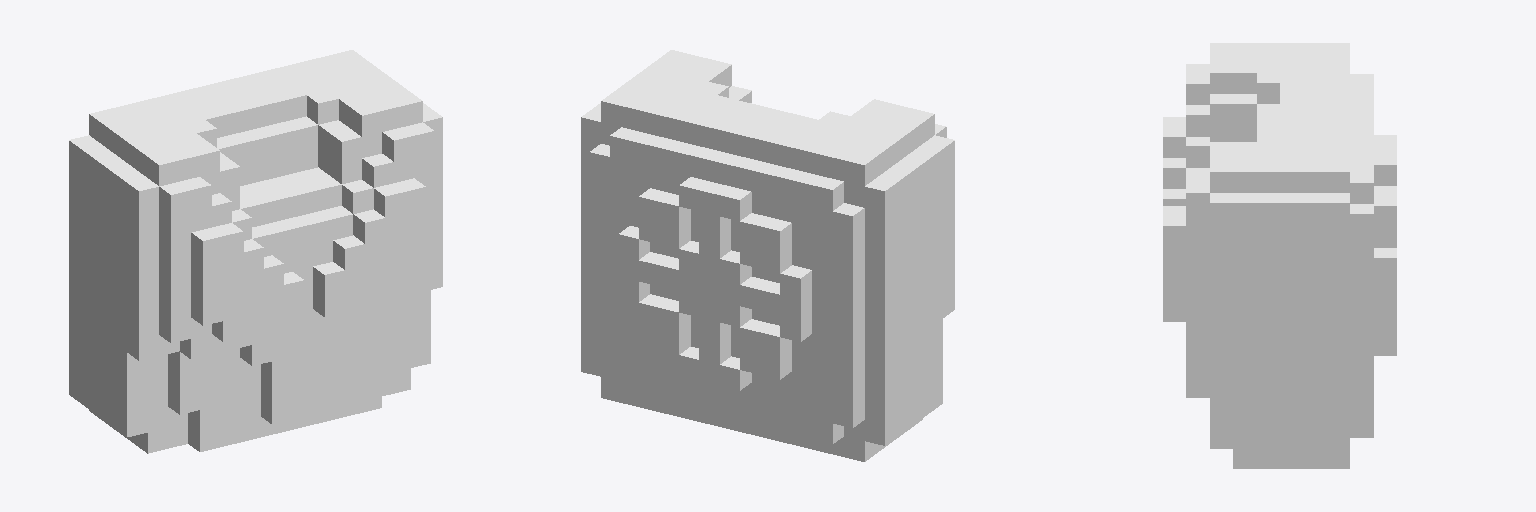
The model's file is golemBody.obj.
3 views of the same model, side by side, from view 1: azimuth 30°, elevation 25°; view 2: azimuth 150°, elevation 25°; view 3: azimuth 270°, elevation 25° (orthographic).
Visible parts, largest first — view 1: golemBody; view 2: golemBody; view 3: golemBody.
Part boxes in pixels (bbox=[...]): golemBody: bbox=[69, 50, 442, 453]; golemBody: bbox=[581, 50, 954, 461]; golemBody: bbox=[1163, 43, 1396, 468].
Bounding box in the file's own units: 15 × 14 × 10.